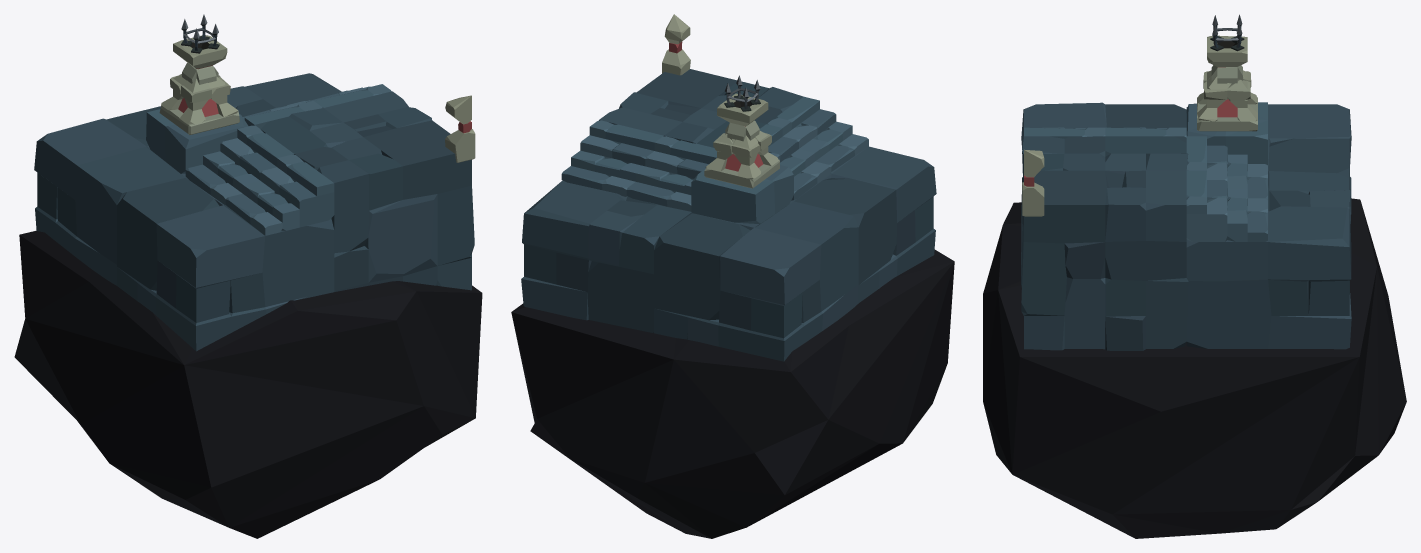
Rendered from platform_corner_conv.fbx.
3 renders of one model, left to right at view 1: azimuth 30°, elevation 25°; view 2: azimuth 150°, elevation 25°; view 3: azimuth 270°, elevation 25°, orthographic. The views are drawn at different scales.
Visible parts, largest first — view 1: platform_corner_conv; view 2: platform_corner_conv; view 3: platform_corner_conv.
Part boxes in pixels (left/top/right/bottom): platform_corner_conv: left=14, top=14, right=482, bottom=538; platform_corner_conv: left=511, top=14, right=954, bottom=538; platform_corner_conv: left=983, top=14, right=1406, bottom=538.
Size of the model in its own units: 961 by 1317 by 1041.
